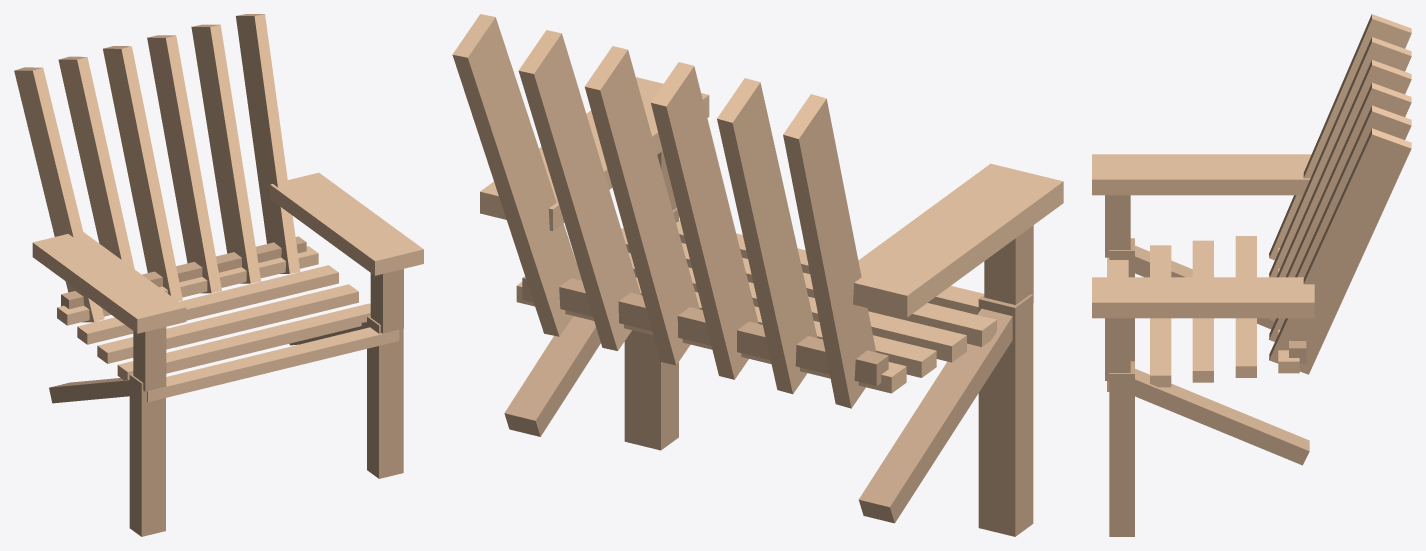
The model's file is gardenChair.glb.
The picture shows the model from 3 angles, left to right: view 1: azimuth 30°, elevation 25°; view 2: azimuth 150°, elevation 25°; view 3: azimuth 270°, elevation 25°; orthographic projection. The views are drawn at different scales.
Visible parts, largest first — view 1: gardenChair; view 2: gardenChair; view 3: gardenChair.
Boxes of the visible parts, x1,y1,x2,y2 form: gardenChair: (14,14,423,536); gardenChair: (452,14,1063,536); gardenChair: (1092,14,1411,536).
Size of the model in its own units: 0.41 by 0.5097 by 0.3734.
